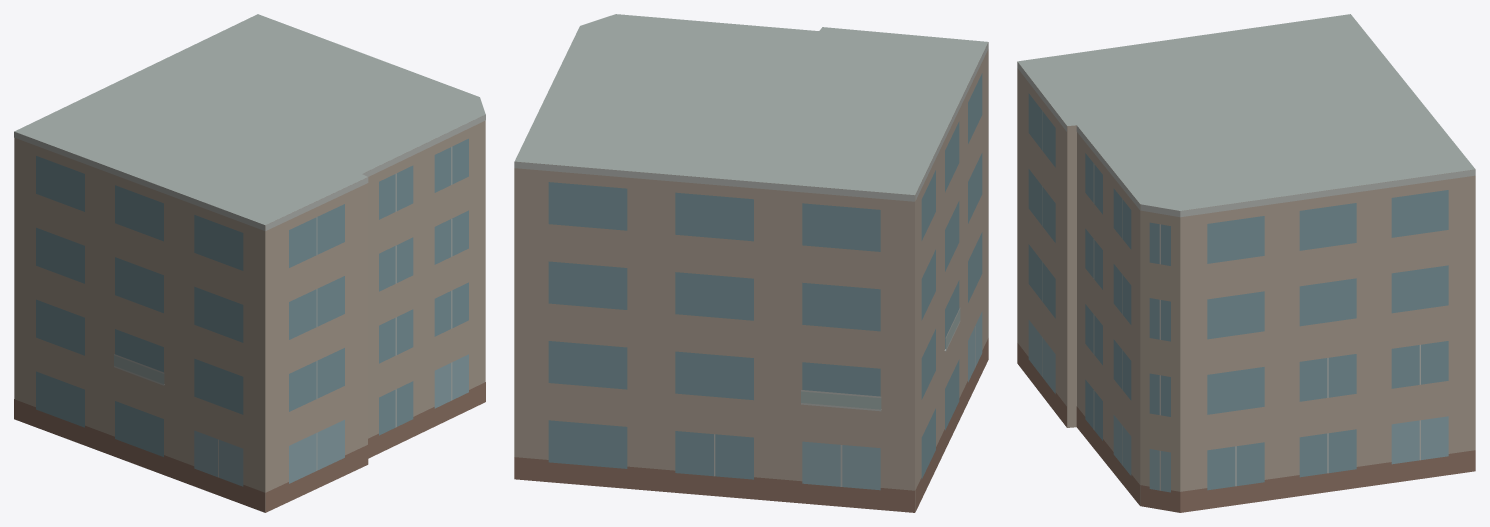
File: survey-upis-32914311.glb
The picture shows the model from 3 angles, left to right: view 1: azimuth 30°, elevation 25°; view 2: azimuth 150°, elevation 25°; view 3: azimuth 270°, elevation 25°; orthographic projection. The views are drawn at different scales.
Visible parts, largest first — view 1: survey-upis-32914311.tmp; view 2: survey-upis-32914311.tmp; view 3: survey-upis-32914311.tmp.
Boxes of the visible parts, left/top/right/bottom form: survey-upis-32914311.tmp: left=14, top=14, right=485, bottom=512; survey-upis-32914311.tmp: left=514, top=14, right=988, bottom=512; survey-upis-32914311.tmp: left=1017, top=14, right=1475, bottom=512.
Bounding box in the file's own units: 16.45 × 11.75 × 16.18.
